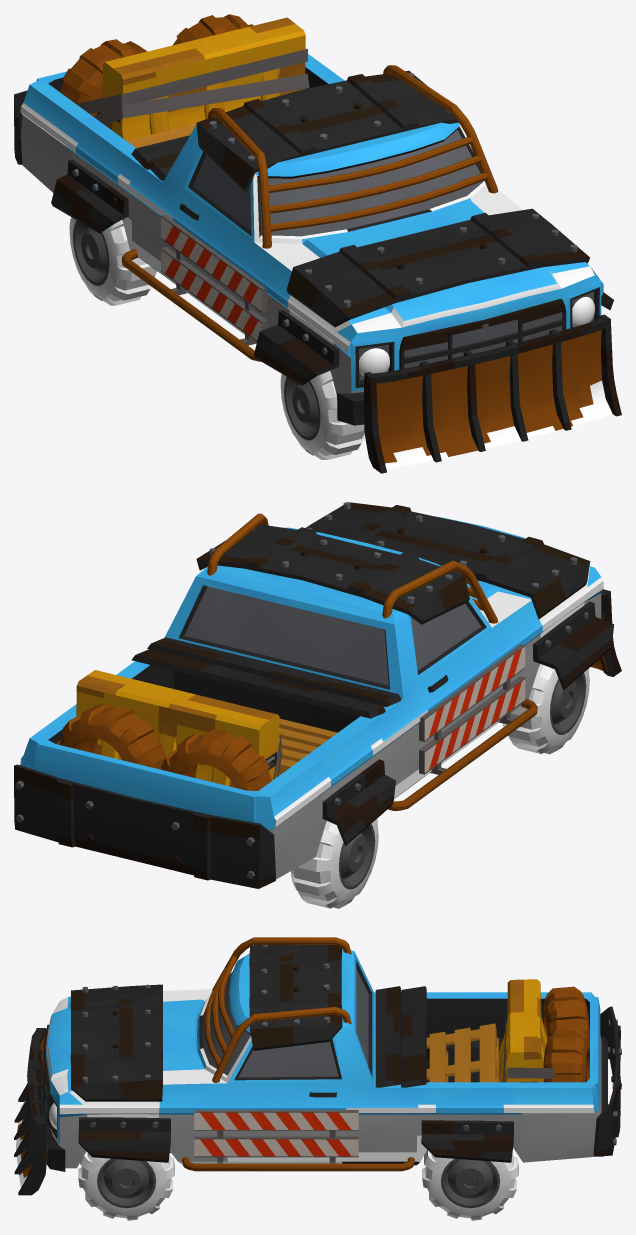
Rendered from Vehicle_Pickup_Armored.glb.
3 views of the same model, one above another, from view 1: azimuth 30°, elevation 25°; view 2: azimuth 150°, elevation 25°; view 3: azimuth 270°, elevation 25° (orthographic). The views are drawn at different scales.
Visible parts, largest first — view 1: Pickup_Armored, FrontWheel_R, BackWheels; view 2: Pickup_Armored, BackWheels, FrontWheel_R; view 3: Pickup_Armored, BackWheels, FrontWheel_L.
Boxes of the visible parts, x1,y1,x2,y2 form: Pickup_Armored: (14,14,621,473); FrontWheel_R: (280,371,365,459); BackWheels: (69,217,156,305); Pickup_Armored: (14,502,621,888); BackWheels: (291,819,378,908); FrontWheel_R: (502,664,589,754); Pickup_Armored: (14,937,621,1195); BackWheels: (422,1150,518,1220); FrontWheel_L: (78,1151,174,1220).
Bounding box in the file's own units: 2.65 × 2 × 5.51.
